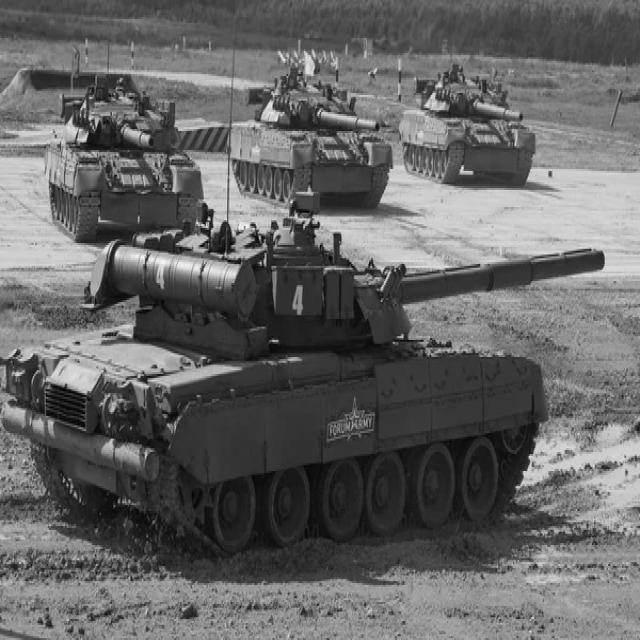Tank: (10, 219, 617, 562), (42, 64, 209, 239), (227, 65, 395, 211), (399, 55, 539, 190)
